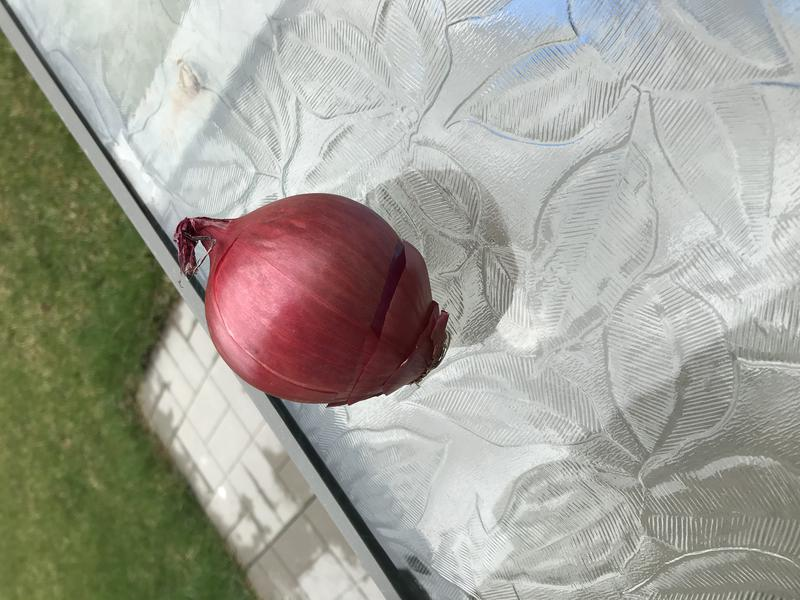purple_onion: (164, 183, 460, 413)
